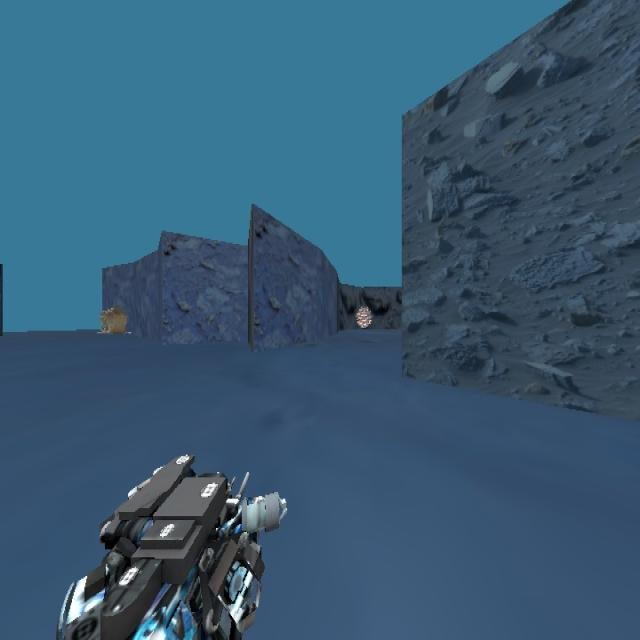Ice: (99, 306, 127, 334)
Mushroom: (354, 304, 372, 329)
